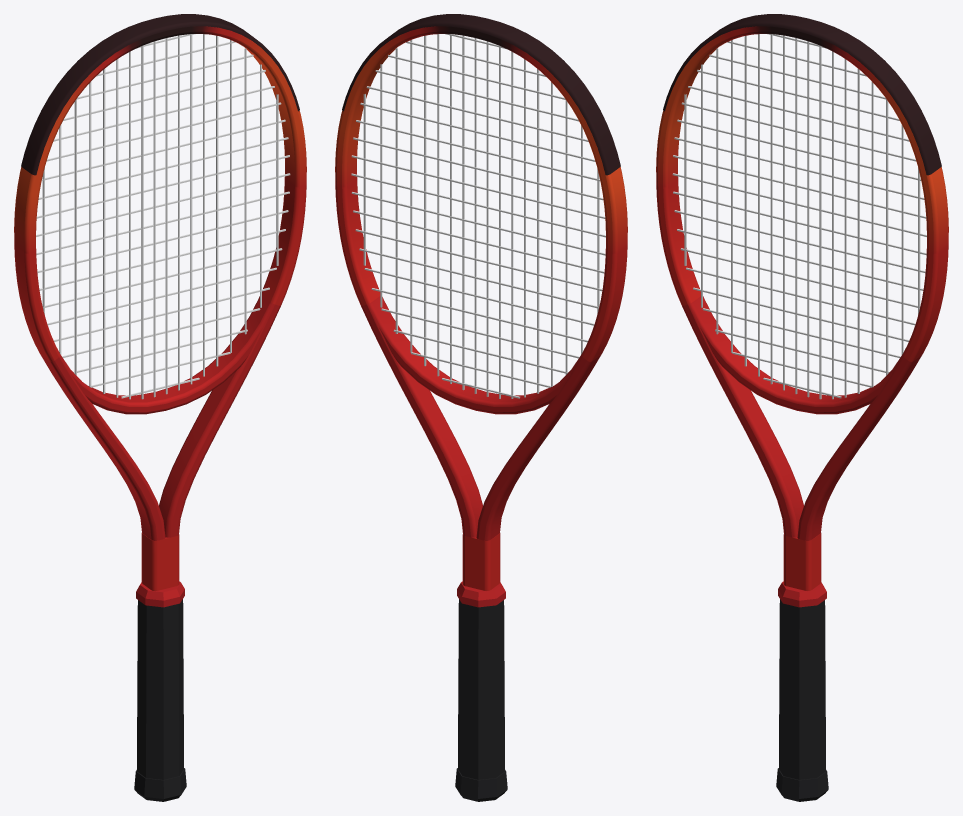
File: dunlop-cx-200-18x20-2027.glb
3 views of the same model, side by side, from view 1: azimuth 30°, elevation 25°; view 2: azimuth 150°, elevation 25°; view 3: azimuth 330°, elevation 25° (orthographic).
Visible parts, largest first — view 1: frame, strings_mains, strings_crosses, grip, bumper, butt_cap, collar; view 2: frame, strings_mains, strings_crosses, grip, bumper, butt_cap, collar; view 3: frame, strings_mains, strings_crosses, grip, bumper, butt_cap, collar.
Part boxes in pixels (x1,y1,x2,y2): frame: [14, 26, 306, 590]; strings_mains: [42, 34, 278, 399]; strings_crosses: [36, 34, 290, 398]; grip: [137, 599, 183, 779]; bumper: [21, 14, 299, 175]; butt_cap: [134, 768, 186, 801]; collar: [136, 581, 184, 607]; frame: [335, 26, 627, 590]; strings_mains: [363, 34, 599, 398]; strings_crosses: [351, 34, 605, 398]; grip: [458, 599, 504, 779]; bumper: [342, 14, 620, 175]; butt_cap: [455, 768, 507, 801]; collar: [457, 581, 505, 607]; frame: [656, 26, 948, 590]; strings_mains: [684, 34, 920, 399]; strings_crosses: [672, 34, 926, 398]; grip: [779, 599, 825, 779]; bumper: [663, 14, 941, 175]; butt_cap: [776, 768, 828, 801]; collar: [778, 581, 826, 607].
Bounding box in the file's own units: 0.2634 × 0.6861 × 0.0396.
